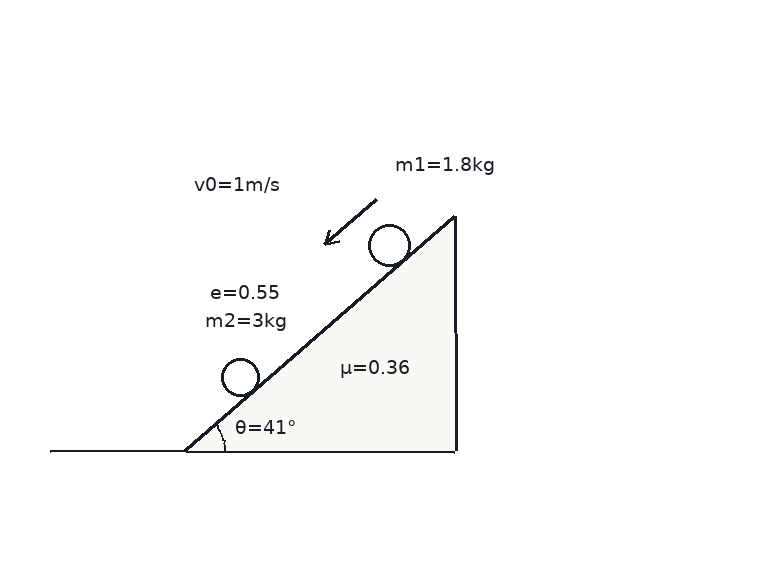ball: (366, 222, 412, 268), (219, 356, 261, 398)
ramp: (183, 213, 457, 452)
